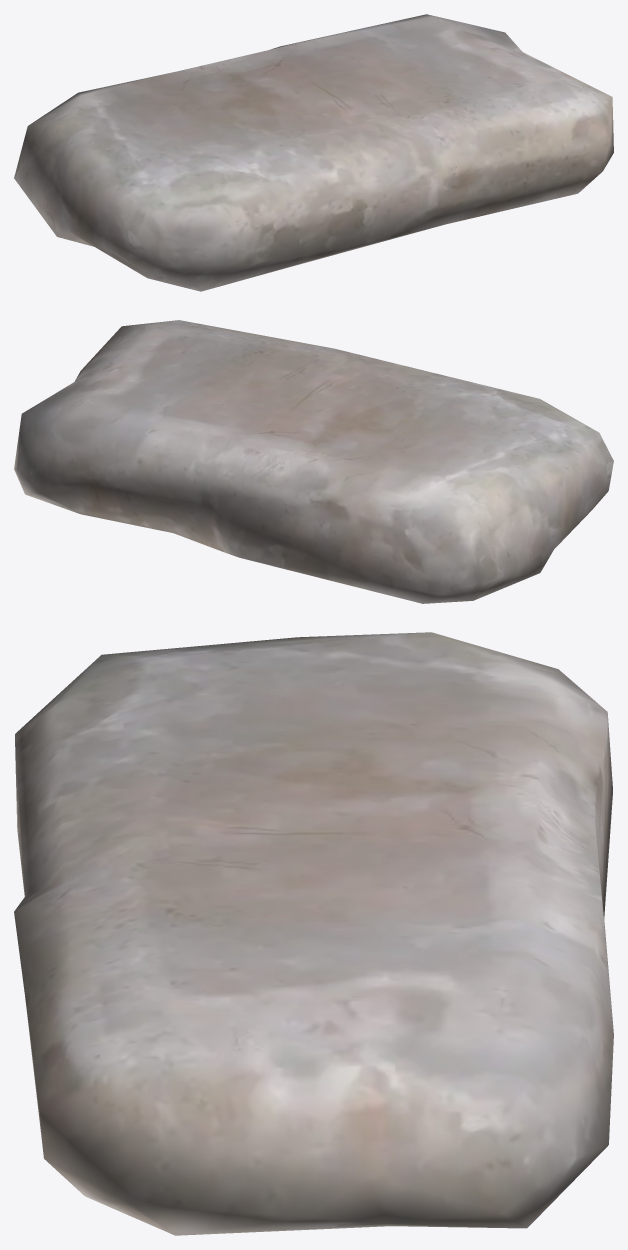
3 views of the same model, one above another, from view 1: azimuth 30°, elevation 25°; view 2: azimuth 150°, elevation 25°; view 3: azimuth 270°, elevation 25° (orthographic). The views are drawn at different scales.
Visible parts, largest first — view 1: SM_Pavement_06_LOD0; view 2: SM_Pavement_06_LOD0; view 3: SM_Pavement_06_LOD0.
Boxes of the visible parts, box(x1,y1,x2,y2) form: SM_Pavement_06_LOD0: box(14, 14, 613, 291); SM_Pavement_06_LOD0: box(14, 320, 613, 603); SM_Pavement_06_LOD0: box(14, 632, 613, 1235).
Bounding box in the file's own units: 0.5997 × 0.1315 × 0.3372.
1 material, 1 textured.
